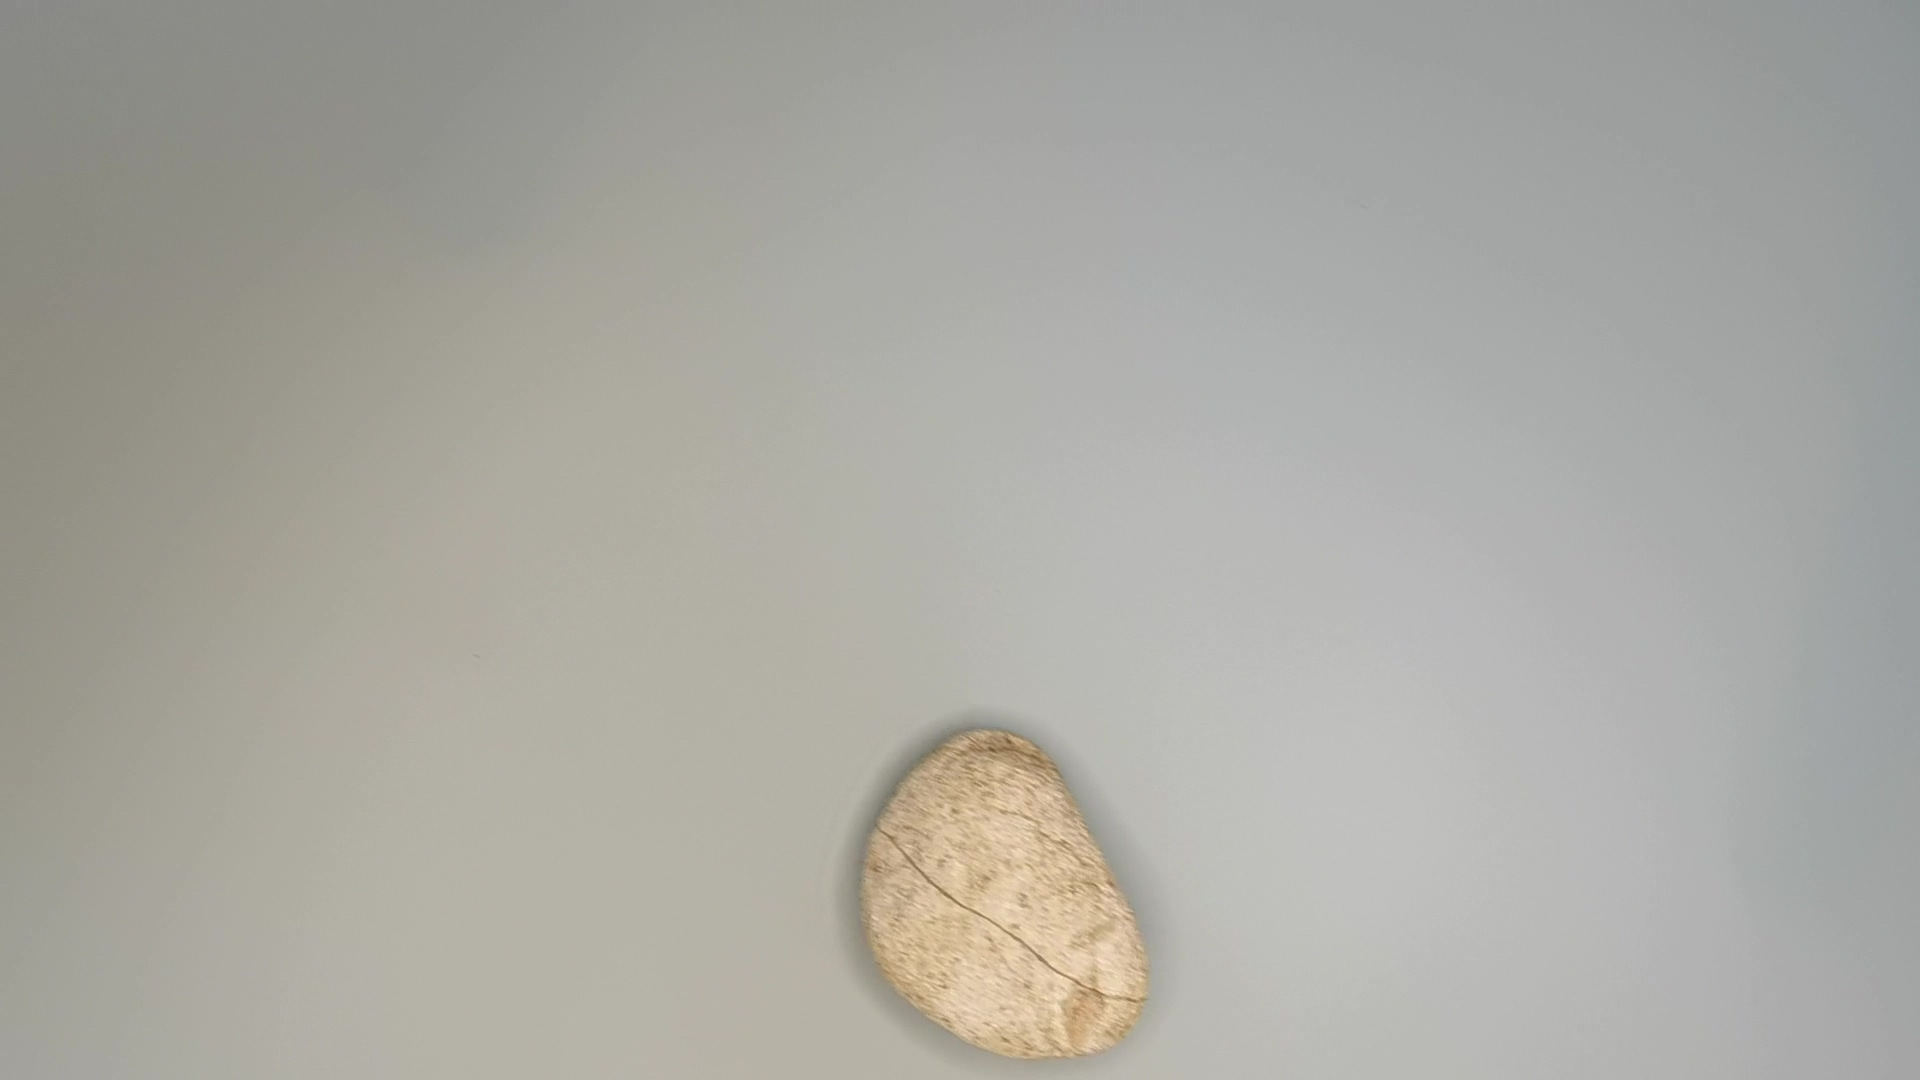ceramic: (849, 717, 1156, 1058)
